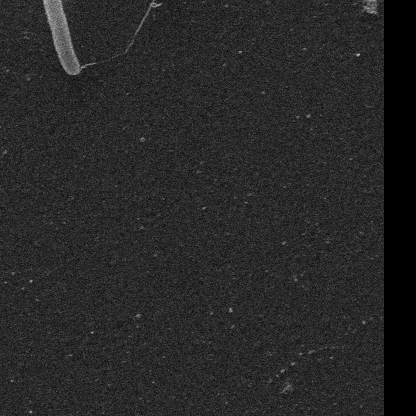cell: (36, 0, 81, 78)
nanowire: (124, 0, 164, 50), (79, 60, 100, 73)
